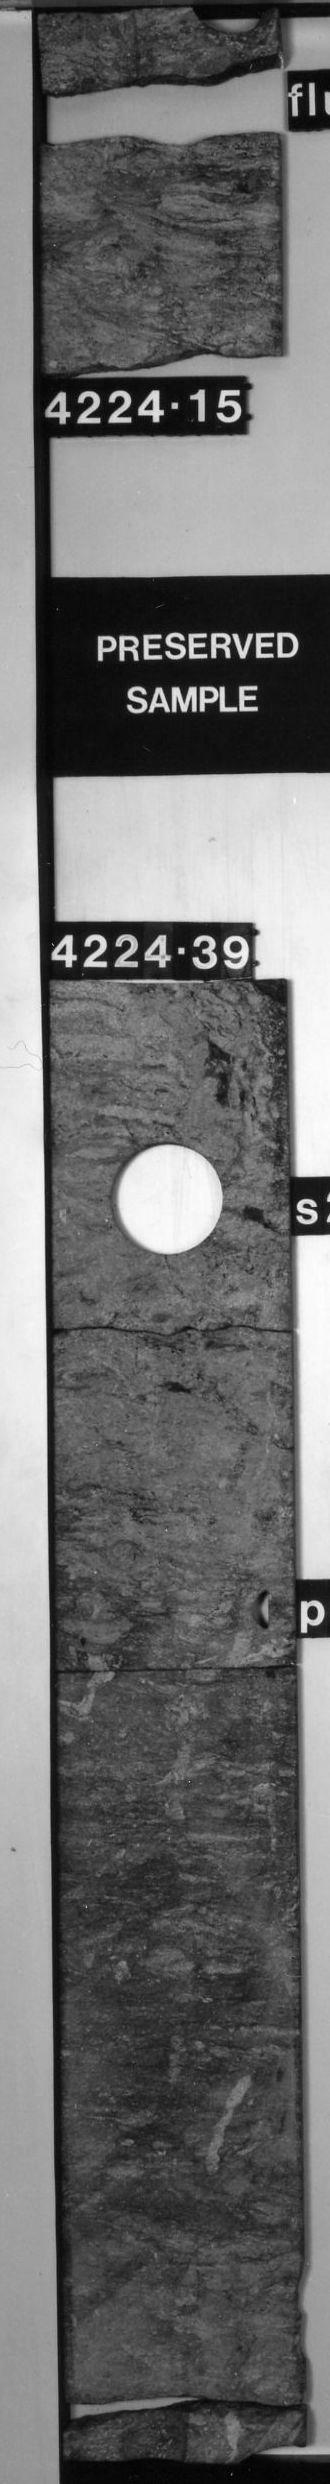hplug: (40, 49, 282, 155), (187, 5, 278, 43), (240, 1578, 282, 1640)
scal: (97, 1133, 236, 1263)
vplug: (175, 2386, 241, 2460)
